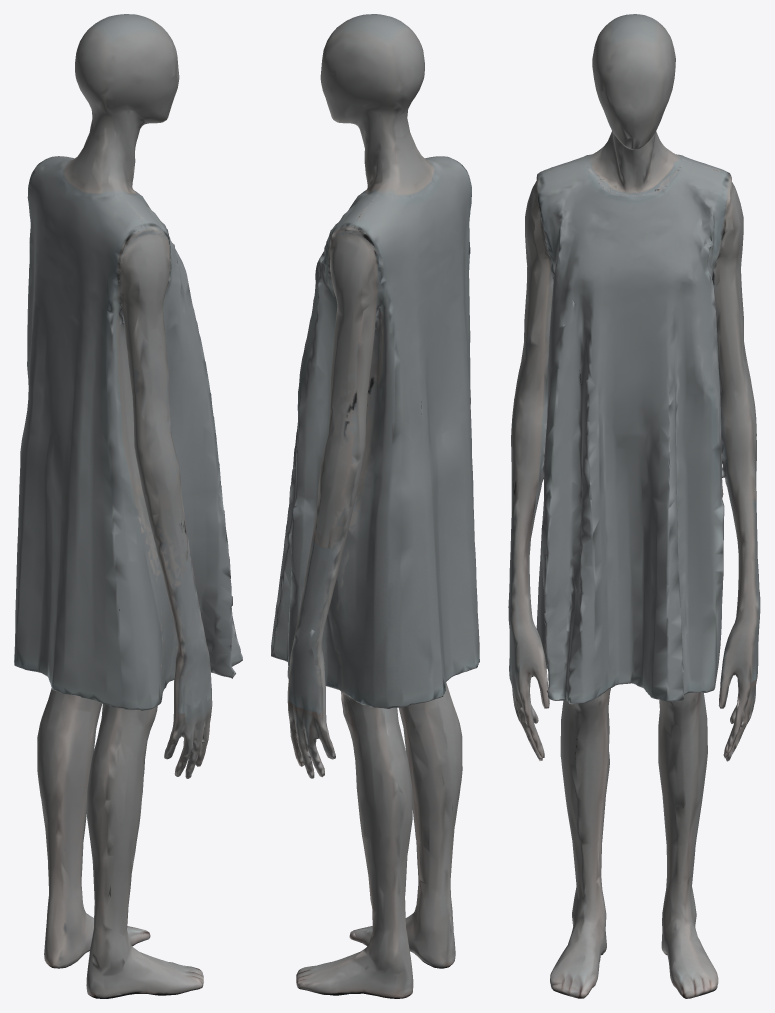
The picture shows the model from 3 angles, left to right: view 1: azimuth 30°, elevation 25°; view 2: azimuth 150°, elevation 25°; view 3: azimuth 270°, elevation 25°; orthographic projection.
Parts seen in each view (by area): view 1: repaired; view 2: repaired; view 3: repaired.
Boxes of the visible parts, <box> form: repaired: <box>14,14,242,998</box>; repaired: <box>271,14,479,998</box>; repaired: <box>508,14,760,998</box>.
Size of the model in its own units: 0.1932 by 0.9996 by 0.2392.
Materials: 1 (1 with a texture image).
